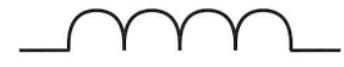inductor: (41, 0, 312, 59)
